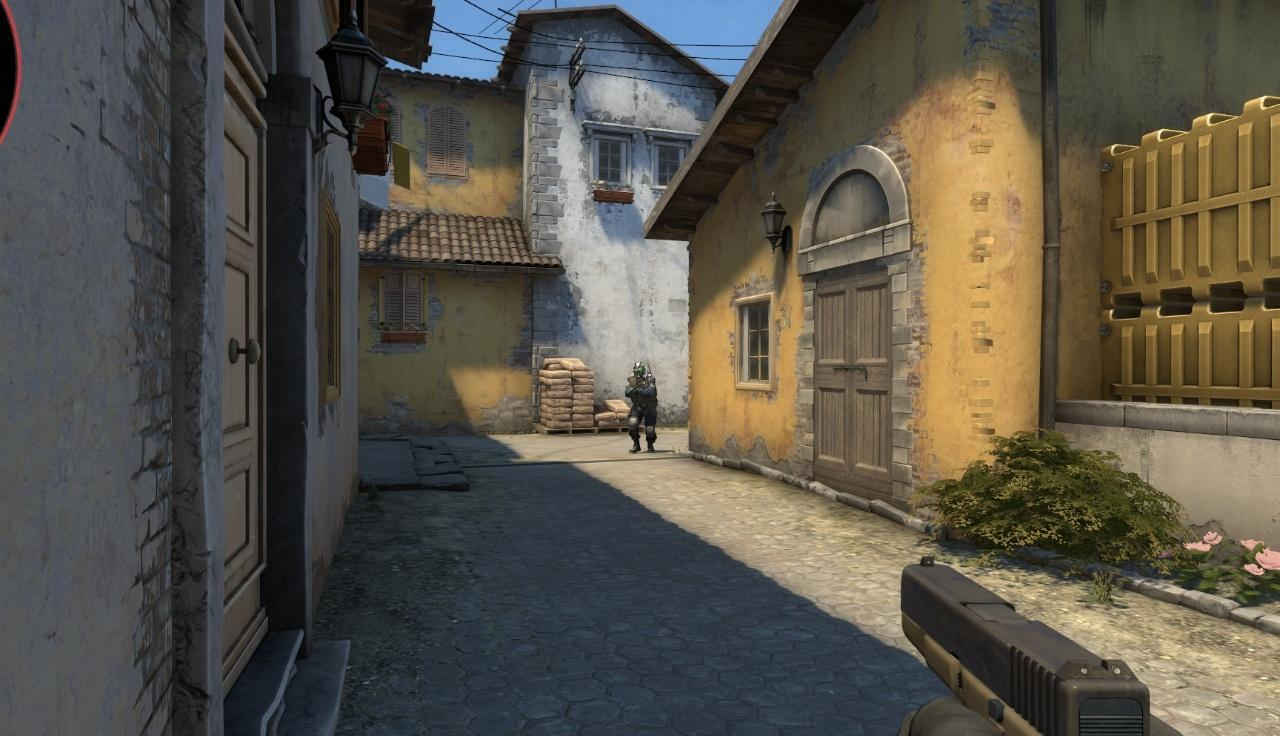ct: (627, 361, 656, 452)
cthead: (633, 362, 645, 379)
pistol: (900, 558, 1163, 736)
